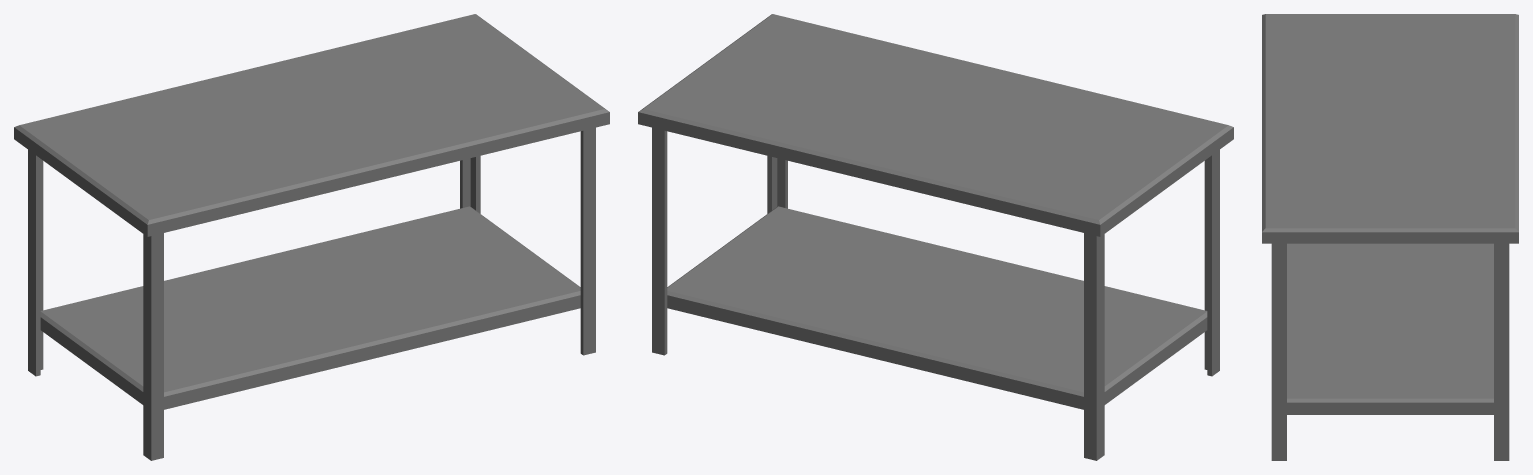
The model's file is Int_KitchenTable03.fbx.
3 views of the same model, side by side, from view 1: azimuth 30°, elevation 25°; view 2: azimuth 150°, elevation 25°; view 3: azimuth 270°, elevation 25° (orthographic). The views are drawn at different scales.
Parts seen in each view (by area): view 1: Int_KitchenTable03; view 2: Int_KitchenTable03; view 3: Int_KitchenTable03.
Part boxes in pixels (x1,y1,x2,y2): Int_KitchenTable03: (14, 14, 609, 460); Int_KitchenTable03: (638, 14, 1233, 460); Int_KitchenTable03: (1262, 14, 1518, 460).
Size of what is drawn, in the model's own units: 200 by 100 by 101.
